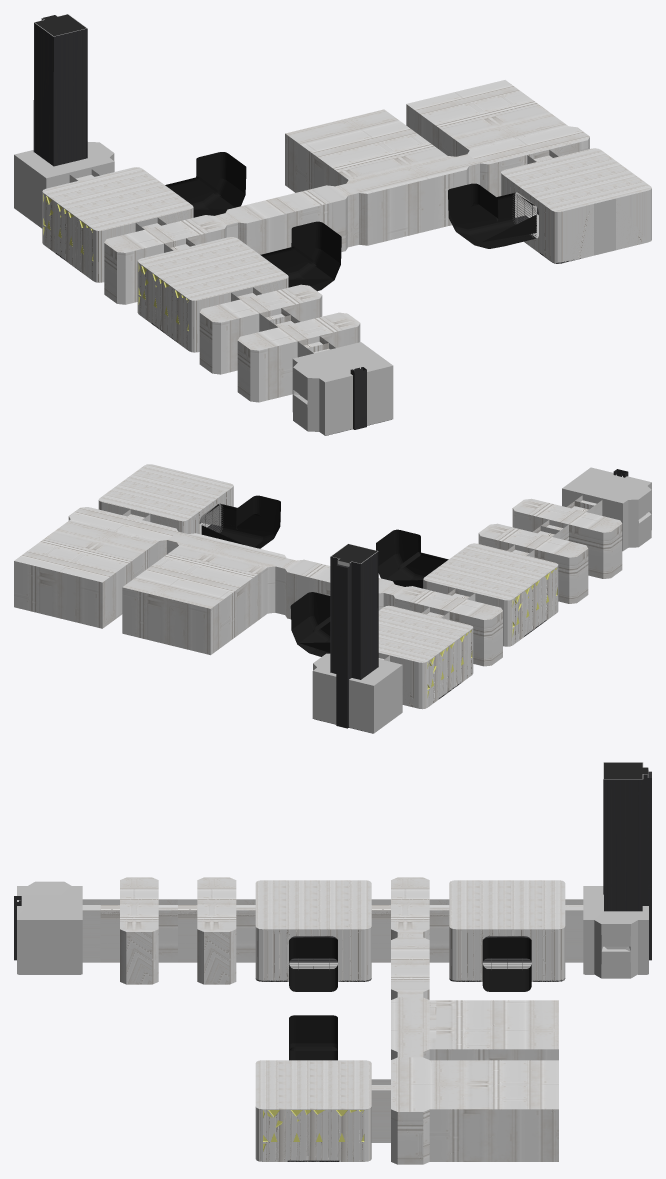
File: Space Station Showcase.fbx
3 renders of one model, top to bottom at view 1: azimuth 30°, elevation 25°; view 2: azimuth 150°, elevation 25°; view 3: azimuth 270°, elevation 25°, orthographic. The views are drawn at different scales.
Parts seen in each view (by area): view 1: Elevator + Lobby, Gang Export.003, Gang Export.002, Gang Export.005, Gang Export.004, Gang Export.001, Gang Export; view 2: Elevator + Lobby, Gang Export.003, Gang Export.002, Gang Export.005, Gang Export, Gang Export.004, Gang Export.001; view 3: Elevator + Lobby, Gang Export.002, Gang Export.003, Gang Export.004, Gang Export.005, Gang Export, Gang Export.001.
Part boxes in pixels (x1,y1,x2,y2): Elevator + Lobby: (14,14,651,435); Gang Export.003: (285,109,479,245); Gang Export.002: (406,80,589,196); Gang Export.005: (237,312,360,402); Gang Export.004: (199,284,322,374); Gang Export.001: (225,183,358,254); Gang Export: (104,213,237,304); Elevator + Lobby: (98,464,651,733); Gang Export.003: (122,531,286,655); Gang Export.002: (14,507,178,628); Gang Export.005: (512,498,622,578); Gang Export: (383,584,502,666); Gang Export.004: (478,523,588,603); Gang Export.001: (275,558,394,619); Elevator + Lobby: (14,762,651,1161); Gang Export.002: (391,1057,558,1164); Gang Export.003: (391,997,558,1060); Gang Export.004: (178,877,255,984); Gang Export.005: (100,877,177,984); Gang Export: (371,877,449,962); Gang Export.001: (391,937,429,999).
Size of the model in its own units: 43 by 16.02 by 49.43.
